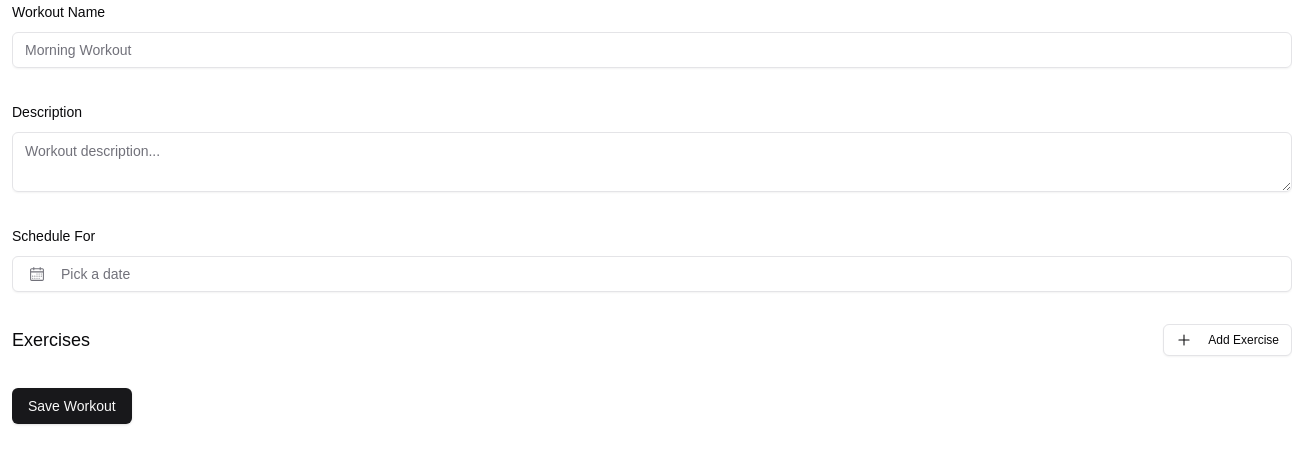
Test case: WorkoutForm › validates required fields
// Try to submit without required fields
Click the button "Save Workout" at coordinates (72, 406), box [12,388,132,424]
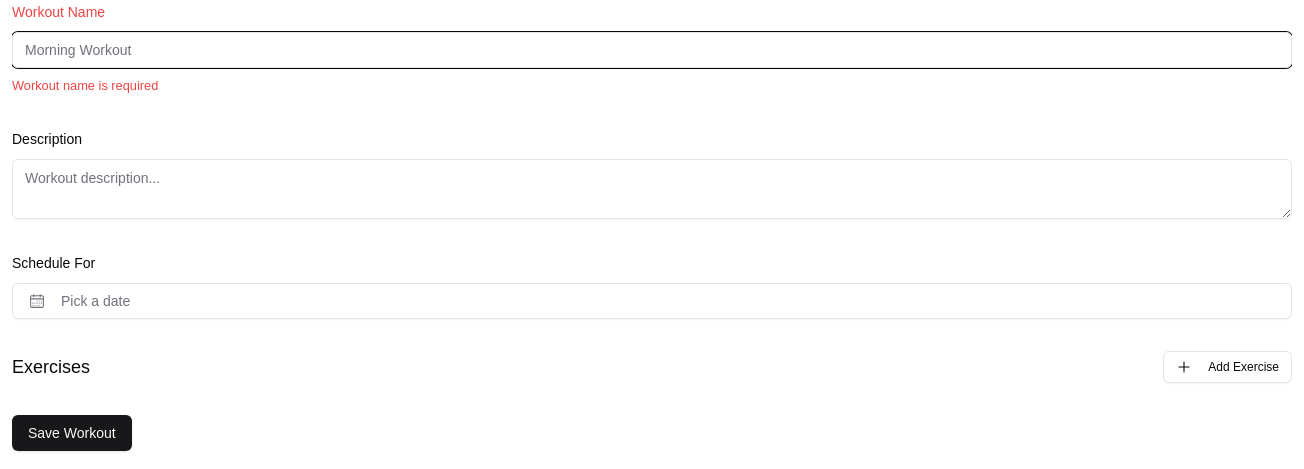
Expected: the text "Workout name is required" is shown, [12,78,158,93]
